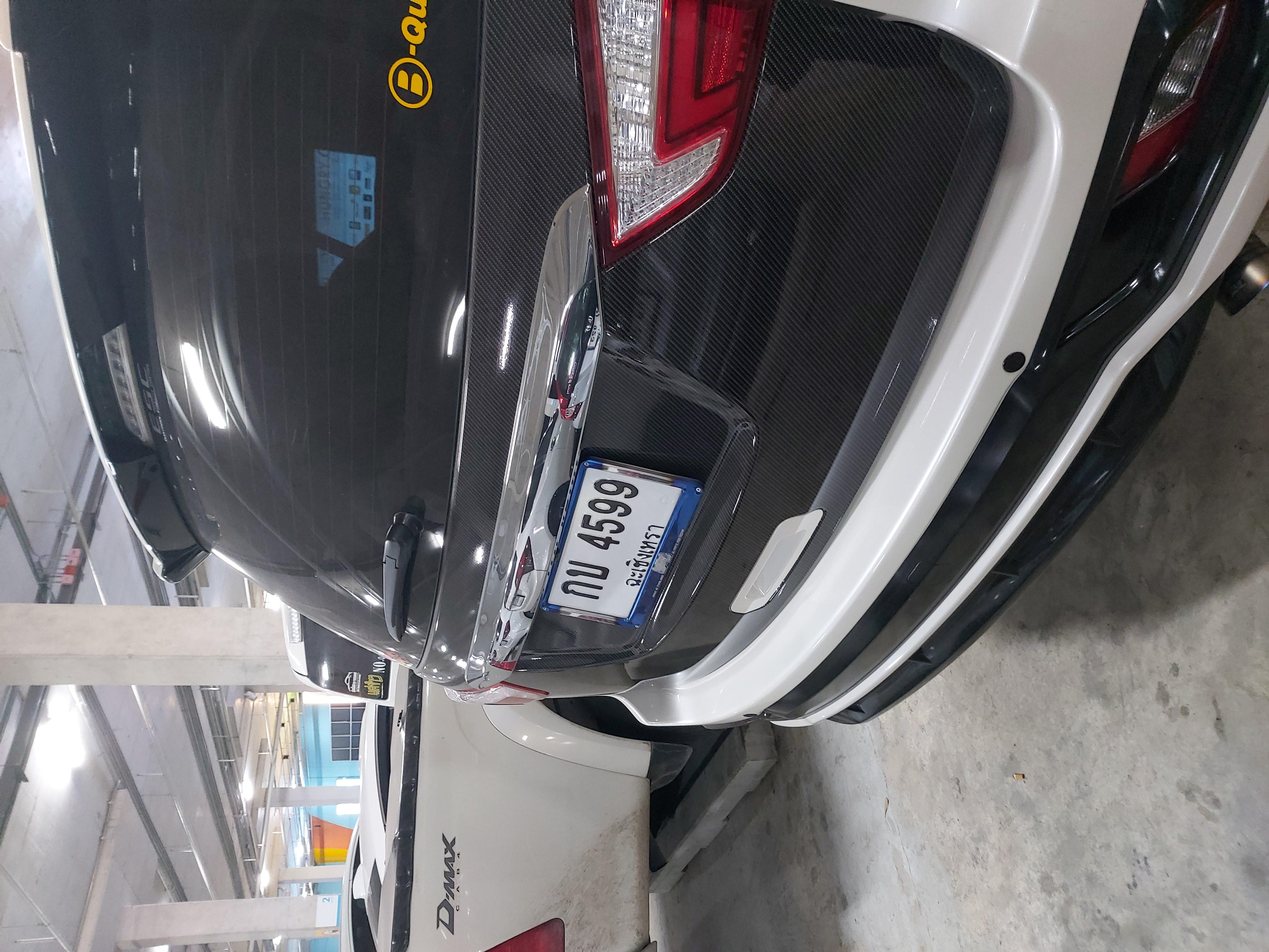license-plate: (440, 409, 650, 512)
